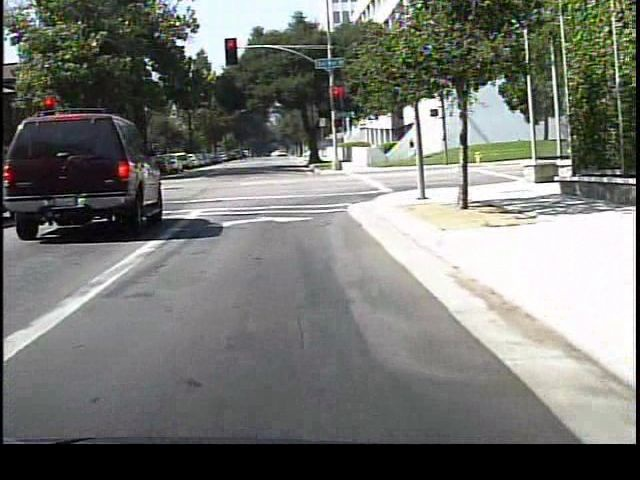person: (405, 127, 426, 167)
